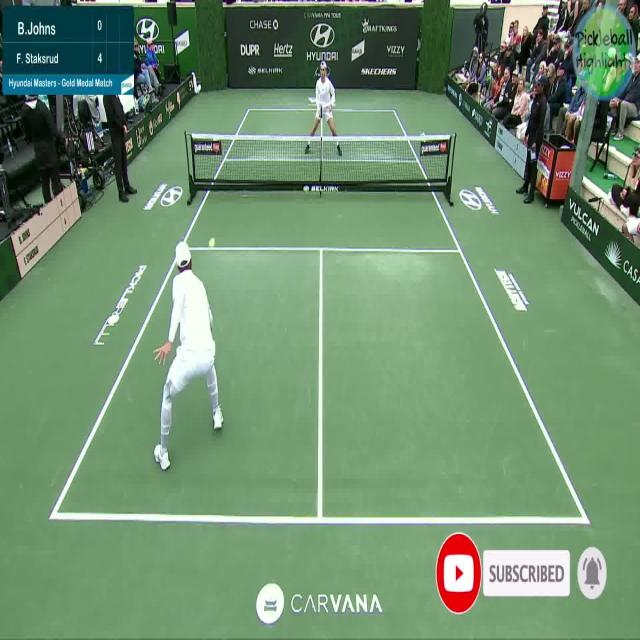ball: (207, 233, 216, 246)
